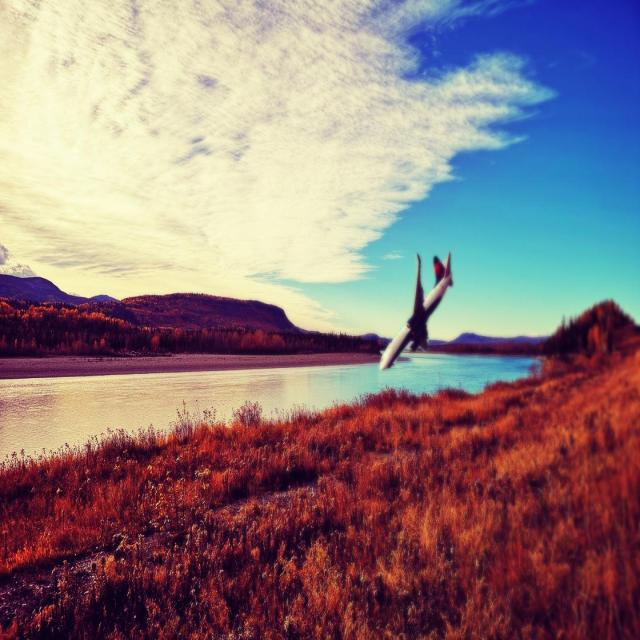airplane: (378, 250, 453, 370)
